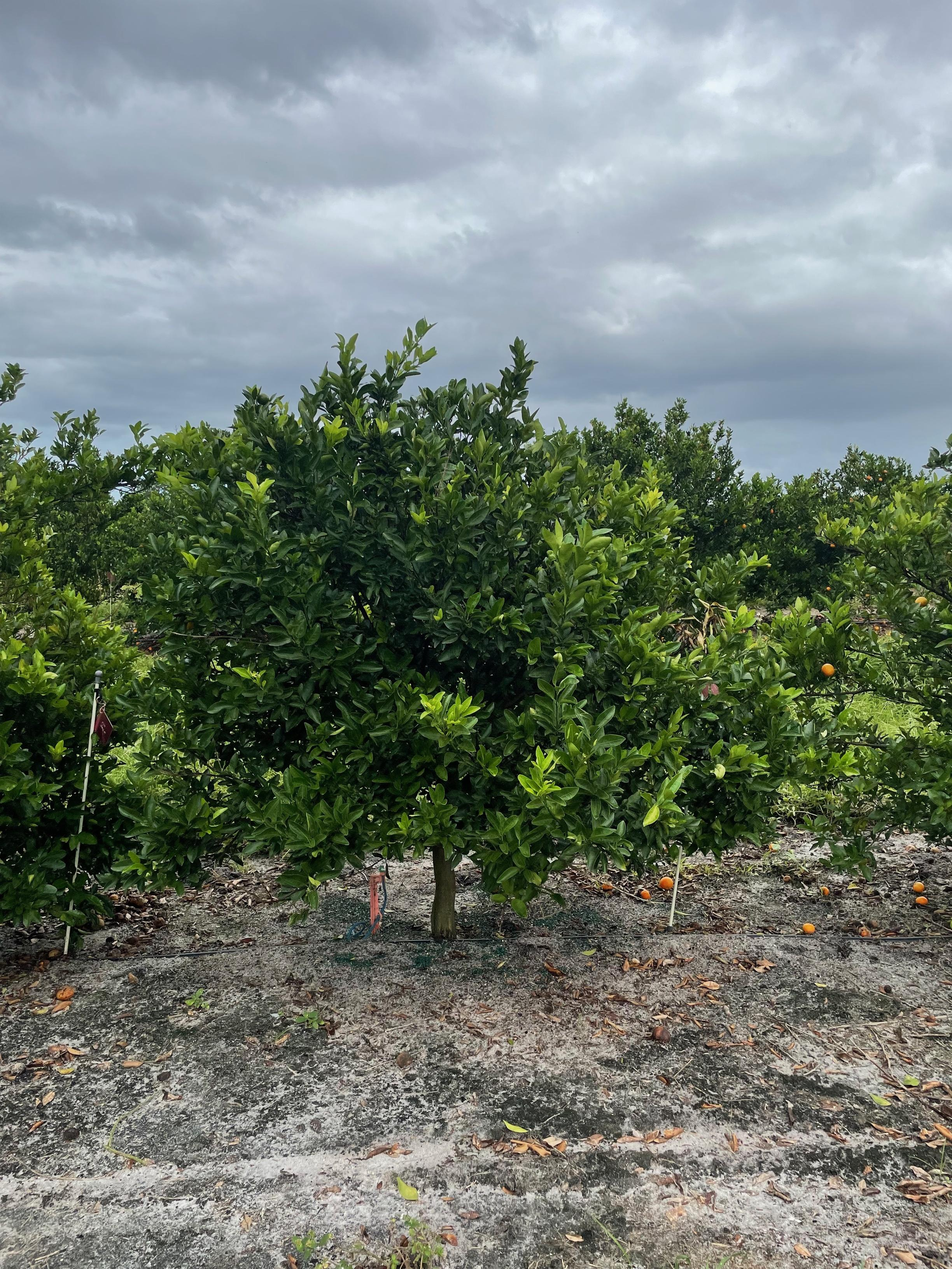fruit_on_ground: (819, 661, 837, 679), (913, 595, 929, 608), (256, 392, 270, 406)
fruit_on_tree: (650, 1023, 672, 1045), (394, 1049, 414, 1069), (657, 874, 675, 891), (801, 920, 817, 935), (911, 880, 926, 895), (914, 894, 930, 907), (818, 884, 831, 898), (639, 888, 652, 900), (600, 881, 614, 892), (781, 874, 793, 884)
